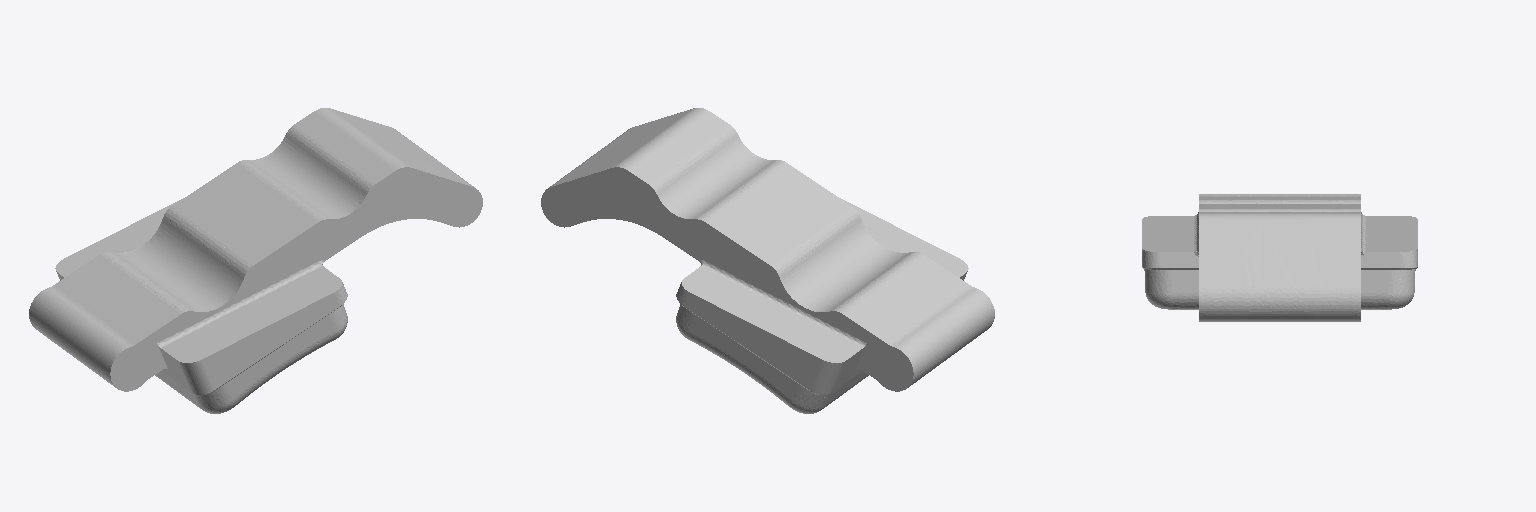
Rendered from float_H_UV_100430.obj.
3 renders of one model, left to right at view 1: azimuth 30°, elevation 25°; view 2: azimuth 150°, elevation 25°; view 3: azimuth 270°, elevation 25°, orthographic.
Parts seen in each view (by area): view 1: float_H_float_HShape; view 2: float_H_float_HShape; view 3: float_H_float_HShape.
Part boxes in pixels (x1,y1,x2,y2): float_H_float_HShape: (29, 108, 482, 413); float_H_float_HShape: (541, 108, 994, 413); float_H_float_HShape: (1142, 194, 1417, 321).
Size of the model in its own units: 0.0484 by 0.0229 by 0.031.